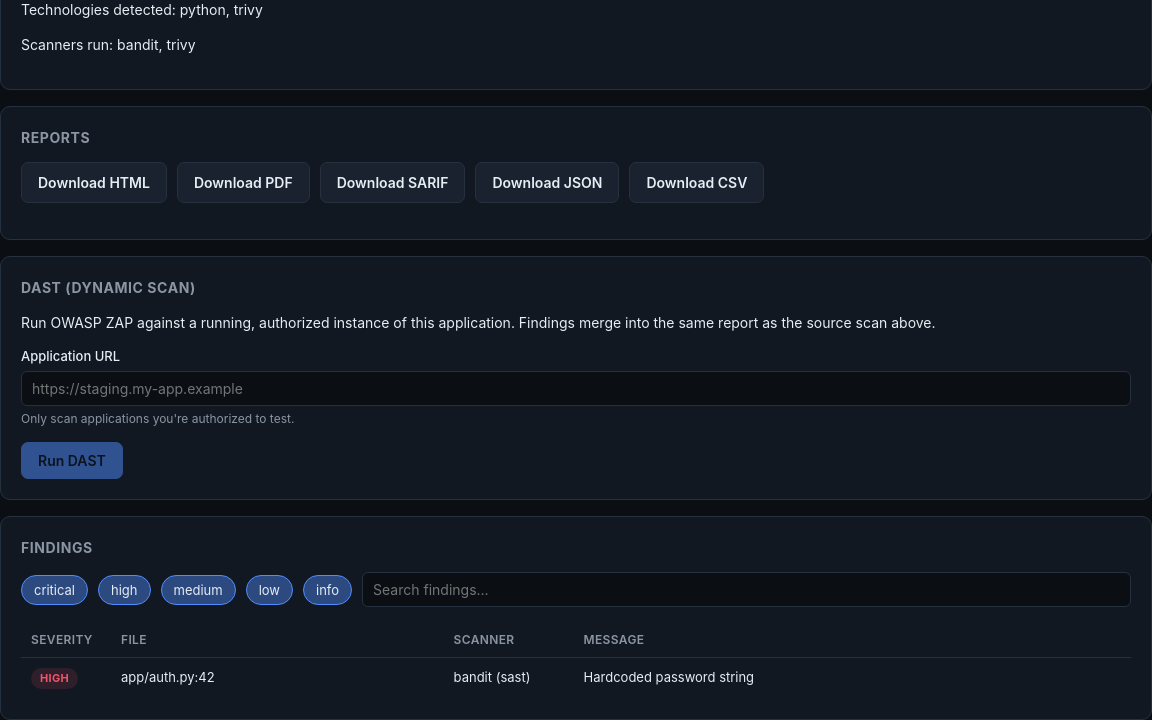
Test: CodeScanDetail › filters findings by search text
(page scrolled)
Expected: the text "Hardcoded password string" is shown, [574,658,1131,698]
In the field with placeholder "Search findings…": (747, 590) [362,572,1131,607], type "nonexistent"
(page scrolled)
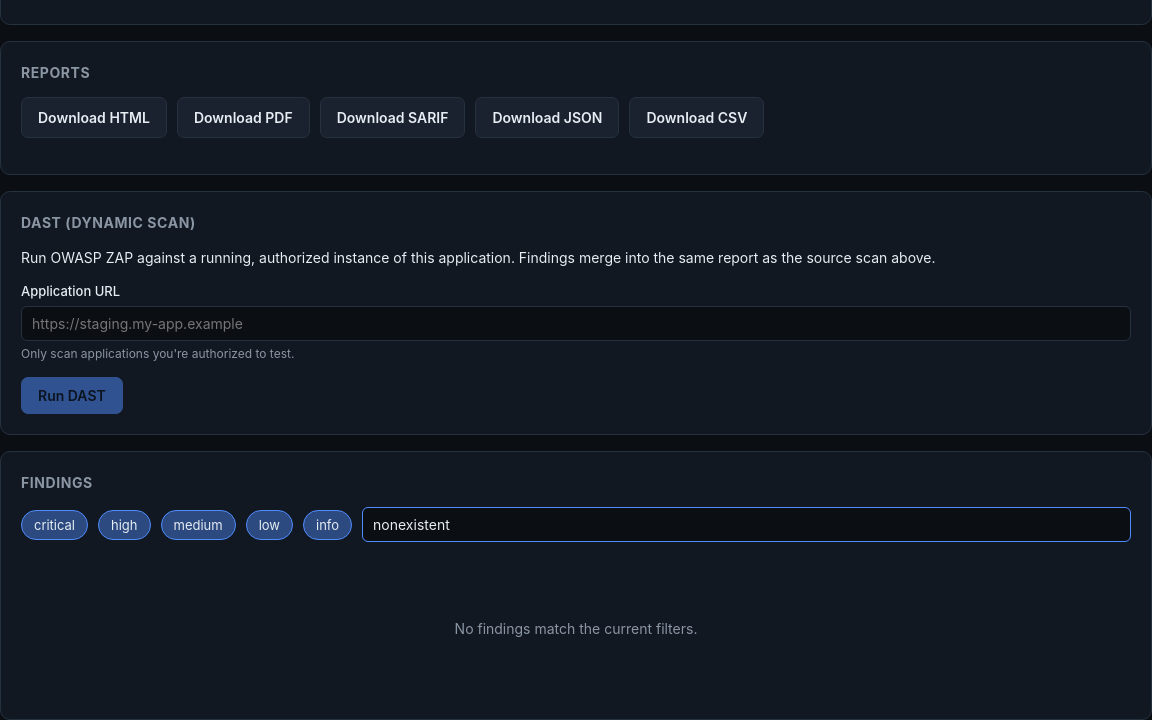
Expected: the text "No findings match the current filters." is shown, [455,620,697,637]
